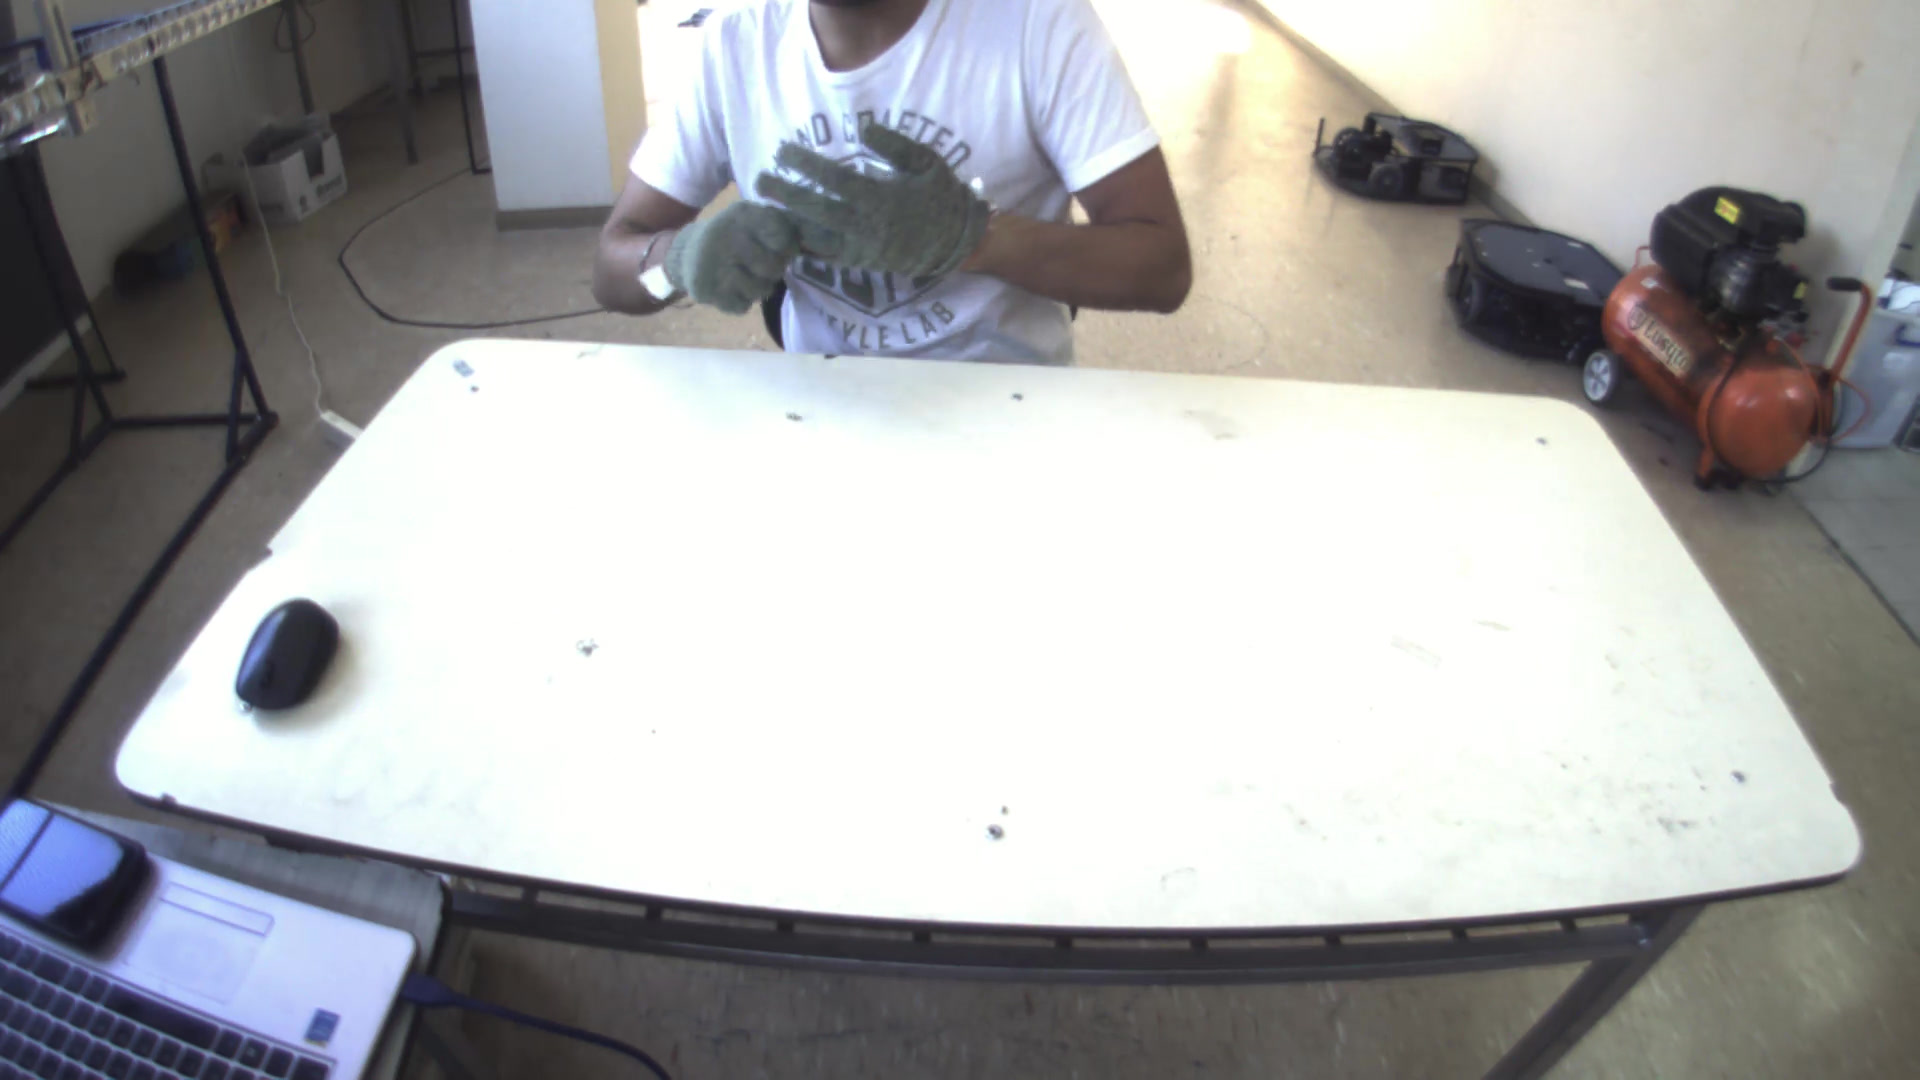hand: (748, 102, 992, 281), (651, 185, 804, 307)
